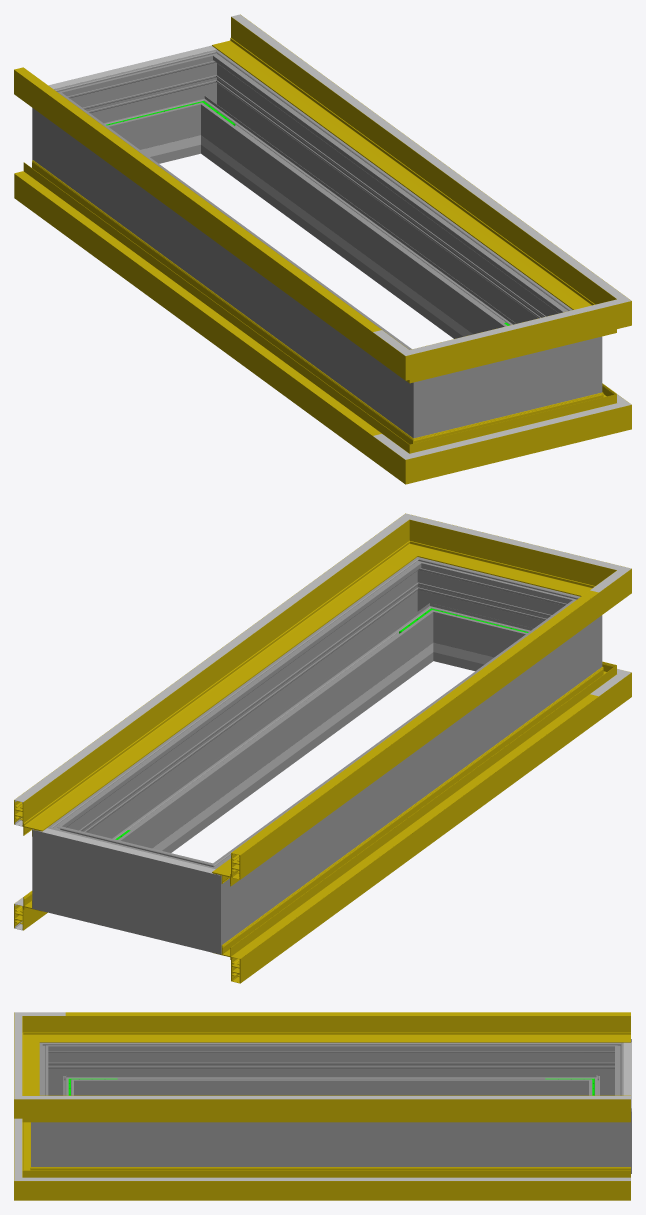
The picture shows the model from 3 angles, top to bottom: view 1: azimuth 30°, elevation 25°; view 2: azimuth 150°, elevation 25°; view 3: azimuth 270°, elevation 25°; orthographic projection. The views are drawn at different scales.
Visible parts, largest first — view 1: 3DGeom-297, 3DGeom-268, 3DGeom-85, 3DGeom-58, 3DGeom-50, 3DGeom-276, 3DGeom-270, 3DGeom-90, 3DGeom-284, 3DGeom-298, 3DGeom-290, 3DGeom-86 (+13 smaller); view 2: 3DGeom-297, 3DGeom-268, 3DGeom-85, 3DGeom-58, 3DGeom-50, 3DGeom-278, 3DGeom-276, 3DGeom-298, 3DGeom-284, 3DGeom-290, 3DGeom-56, 3DGeom-71 (+11 smaller); view 3: 3DGeom-268, 3DGeom-297, 3DGeom-97, 3DGeom-50, 3DGeom-58, 3DGeom-284, 3DGeom-290, 3DGeom-71, 3DGeom-64, 3DGeom-98, 3DGeom-270, 3DGeom-278 (+13 smaller).
Boxes of the visible parts, left/top/right/bottom form: 3DGeom-297: left=206, top=69, right=559, bottom=338; 3DGeom-268: left=65, top=108, right=398, bottom=414; 3DGeom-85: left=14, top=160, right=391, bottom=460; 3DGeom-58: left=212, top=14, right=598, bottom=308; 3DGeom-50: left=14, top=68, right=381, bottom=356; 3DGeom-276: left=94, top=61, right=191, bottom=163; 3DGeom-270: left=381, top=340, right=469, bottom=438; 3DGeom-90: left=451, top=401, right=575, bottom=470; 3DGeom-284: left=169, top=48, right=244, bottom=156; 3DGeom-298: left=470, top=350, right=545, bottom=424; 3DGeom-290: left=545, top=301, right=602, bottom=405; 3DGeom-86: left=373, top=423, right=462, bottom=484; 3DGeom-297: left=74, top=577, right=427, bottom=852; 3DGeom-268: left=235, top=616, right=569, bottom=921; 3DGeom-85: left=213, top=683, right=599, bottom=983; 3DGeom-58: left=14, top=538, right=401, bottom=836; 3DGeom-50: left=212, top=592, right=599, bottom=886; 3DGeom-278: left=164, top=847, right=253, bottom=954; 3DGeom-276: left=89, top=836, right=174, bottom=940; 3DGeom-298: left=443, top=568, right=540, bottom=671; 3DGeom-284: left=32, top=808, right=99, bottom=922; 3DGeom-290: left=390, top=557, right=464, bottom=664; 3DGeom-56: left=446, top=528, right=569, bottom=591; 3DGeom-71: left=231, top=590, right=598, bottom=856; 3DGeom-268: left=82, top=1042, right=580, bottom=1095; 3DGeom-297: left=82, top=1122, right=580, bottom=1166; 3DGeom-97: left=65, top=1167, right=630, bottom=1200; 3DGeom-50: left=65, top=1016, right=630, bottom=1042; 3DGeom-58: left=65, top=1095, right=630, bottom=1122; 3DGeom-284: left=580, top=1090, right=631, bottom=1173; 3DGeom-290: left=31, top=1090, right=82, bottom=1166; 3DGeom-71: left=65, top=1012, right=630, bottom=1015; 3DGeom-64: left=65, top=1096, right=630, bottom=1099; 3DGeom-98: left=65, top=1177, right=630, bottom=1180; 3DGeom-270: left=39, top=1042, right=82, bottom=1095; 3DGeom-278: left=580, top=1039, right=631, bottom=1095.
Bounding box in the file's own units: 0.6096 × 0.3303 × 1.83.
